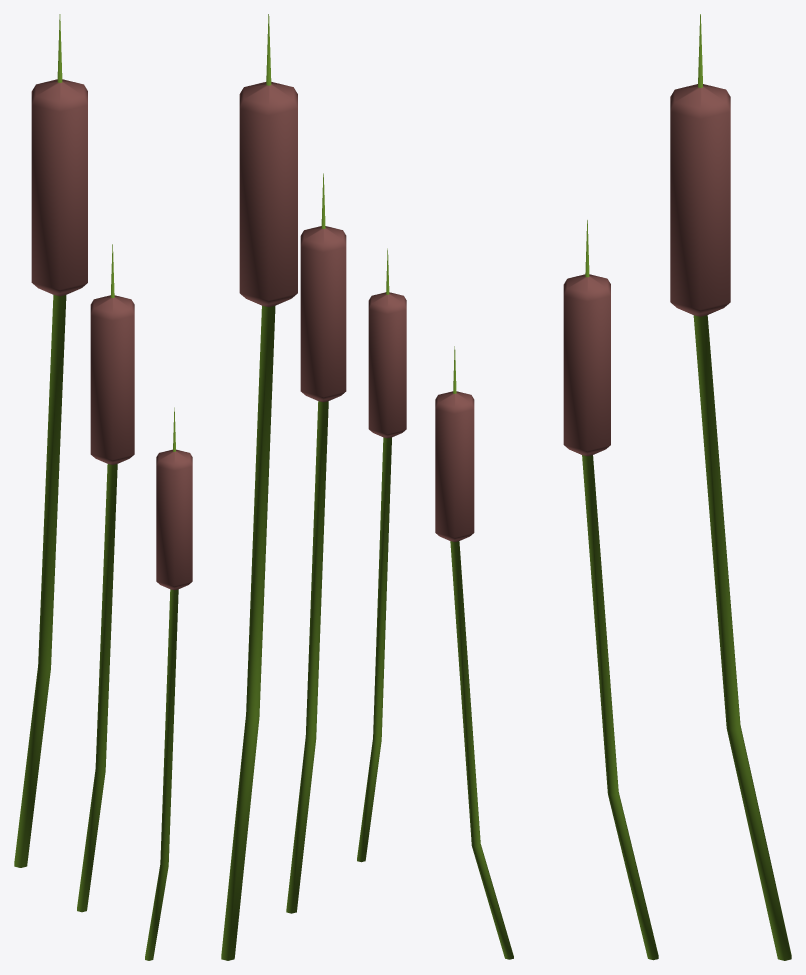
Rendered from JuncoMaior.fbx.
The picture shows the model from 3 angles, left to right: view 1: azimuth 30°, elevation 25°; view 2: azimuth 150°, elevation 25°; view 3: azimuth 270°, elevation 25°; orthographic projection. The views are drawn at different scales.
Parts seen in each view (by area): view 1: Circle.001; view 2: Circle.001; view 3: Circle.001.
Boxes of the visible parts, x1,y1,x2,y2 form: Circle.001: (14,14,192,960); Circle.001: (221,14,406,960); Circle.001: (435,14,791,960).
Bounding box in the file's own units: 10.71 × 160 × 54.71.
